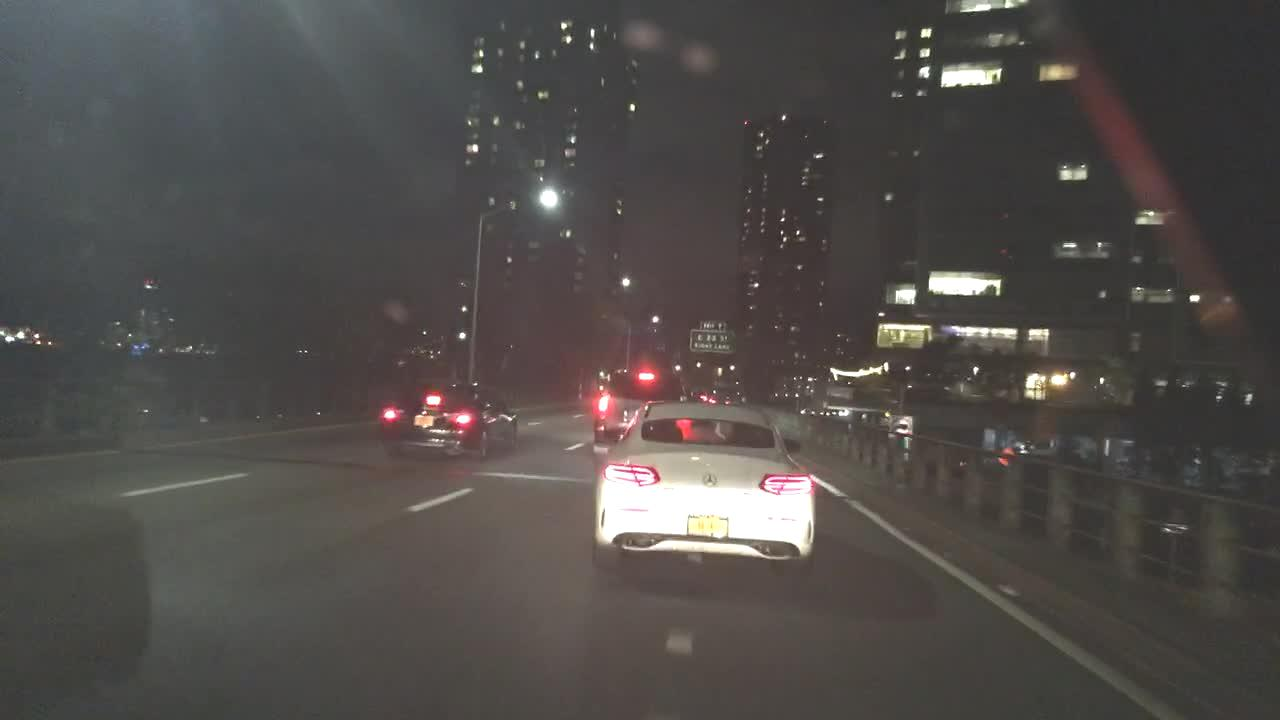Mercedes: (689, 464, 727, 496)
